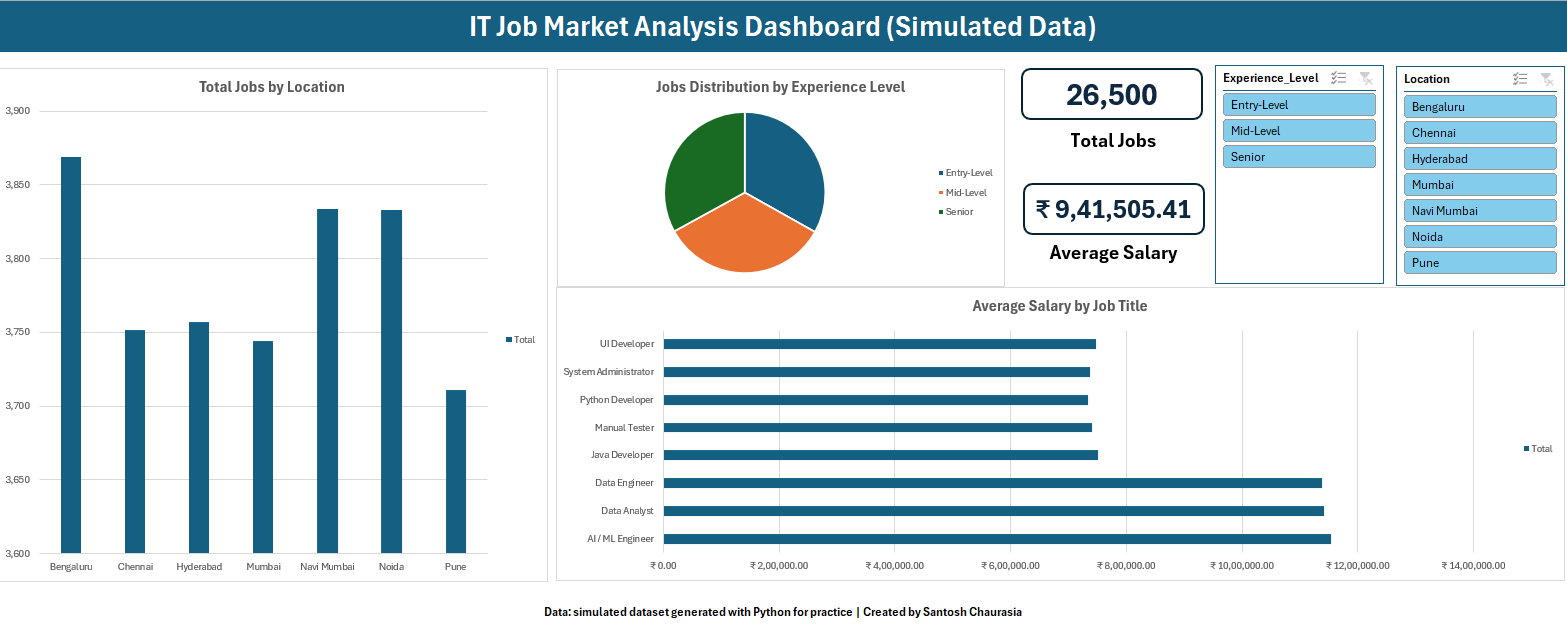

The dashboard page shown, as its layout file describes it:
{"tool":"powerbi","page":{"name":"Page 1","canvas":[1280,720],"ordinal":0},"visuals":[{"type":"textbox","box":[8,11,1265,67],"z":0},{"type":"cardVisual","fields":{"Data":["IT_Job_Market_Clean.Total Jobs"]},"box":[8.4,94.1,241.3,117],"z":1000},{"type":"cardVisual","fields":{"Data":["IT_Job_Market_Clean.Average Salary"]},"box":[263,94,251,117],"z":2000},{"type":"clusteredBarChart","title":"Average Salary by Job Title","fields":{"Category":["IT_Job_Market_Clean.Job_Title"],"Y":["IT_Job_Market_Clean.Average Salary"]},"box":[522.4,359.5,750.4,305.2],"z":3000},{"type":"clusteredColumnChart","fields":{"Category":["IT_Job_Market_Clean.Location"],"Y":["IT_Job_Market_Clean.Total Jobs"]},"box":[20.5,222,493.4,442.8],"z":4000},{"type":"pieChart","title":"\tTotal Jobs by Experience Level","fields":{"Category":["IT_Job_Market_Clean.Experience_Level"],"Y":["IT_Job_Market_Clean.Total Jobs"]},"box":[749.2,95.3,523.6,253.4],"z":5000},{"type":"actionButton","box":[0,0,100,40],"z":6000},{"type":"slicer","fields":{"Values":["IT_Job_Market_Clean.Experience_Level"]},"box":[522.4,95.3,214.7,254.6],"z":7000},{"type":"textbox","box":[8.4,680.4,1264.3,39.8],"z":7001}]}

Visuals, with their boxes on the page's 1280x720 design canvas (x1, y1, x2, y2). These are canvas units, not pixel positions in the 1567x632 screenshot, which may show the page scaled, cropped or inside an application window:
textbox: x1=8, y1=11, x2=1273, y2=78
cardVisual - IT_Job_Market_Clean.Total Jobs: x1=8, y1=94, x2=250, y2=211
cardVisual - IT_Job_Market_Clean.Average Salary: x1=263, y1=94, x2=514, y2=211
"Average Salary by Job Title" clusteredBarChart: x1=522, y1=360, x2=1273, y2=665
clusteredColumnChart - IT_Job_Market_Clean.Location x IT_Job_Market_Clean.Total Jobs: x1=20, y1=222, x2=514, y2=665
"	Total Jobs by Experience Level" pieChart: x1=749, y1=95, x2=1273, y2=349
actionButton: x1=0, y1=0, x2=100, y2=40
slicer - IT_Job_Market_Clean.Experience_Level: x1=522, y1=95, x2=737, y2=350
textbox: x1=8, y1=680, x2=1273, y2=720
